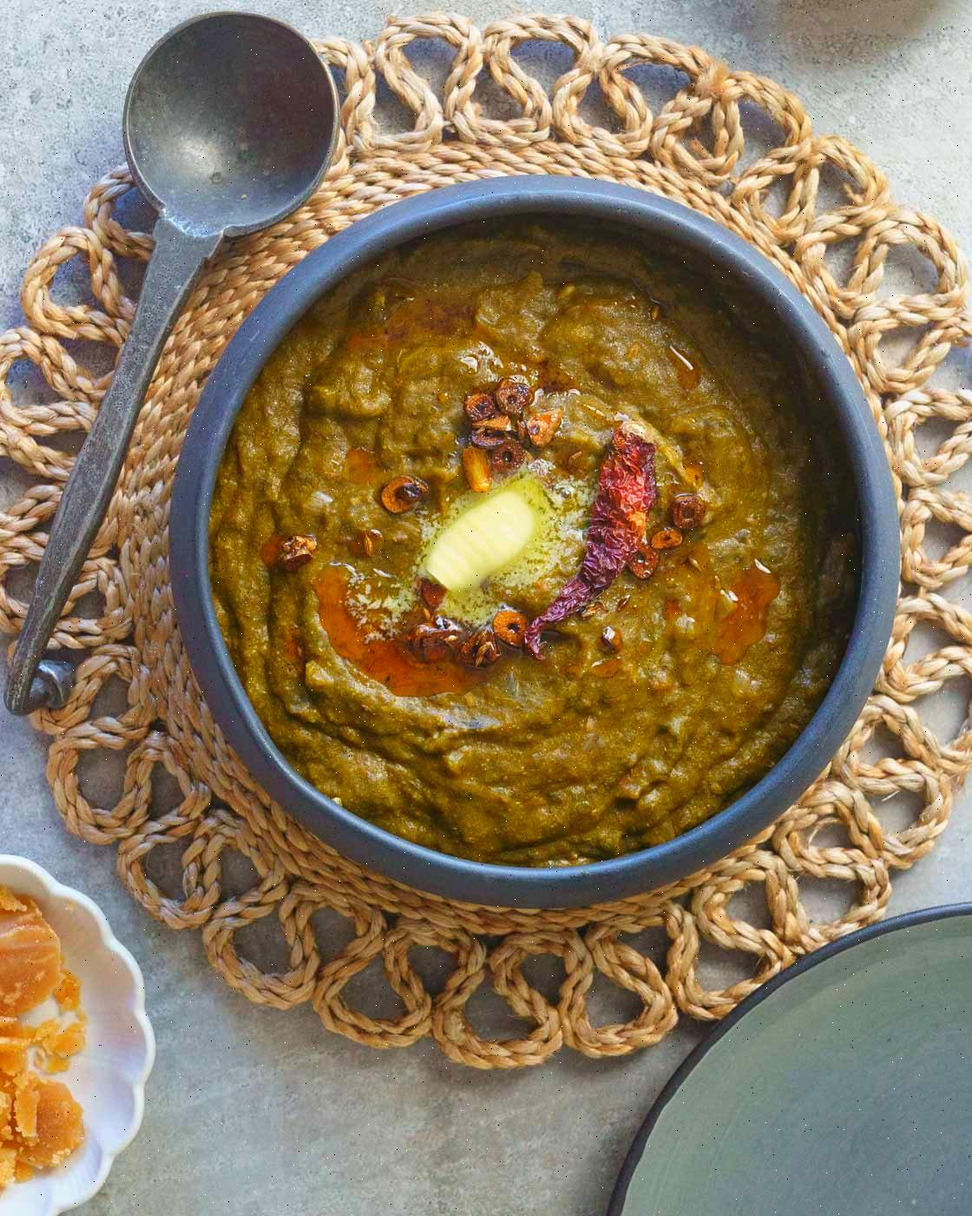saag: (250, 281, 835, 835)
